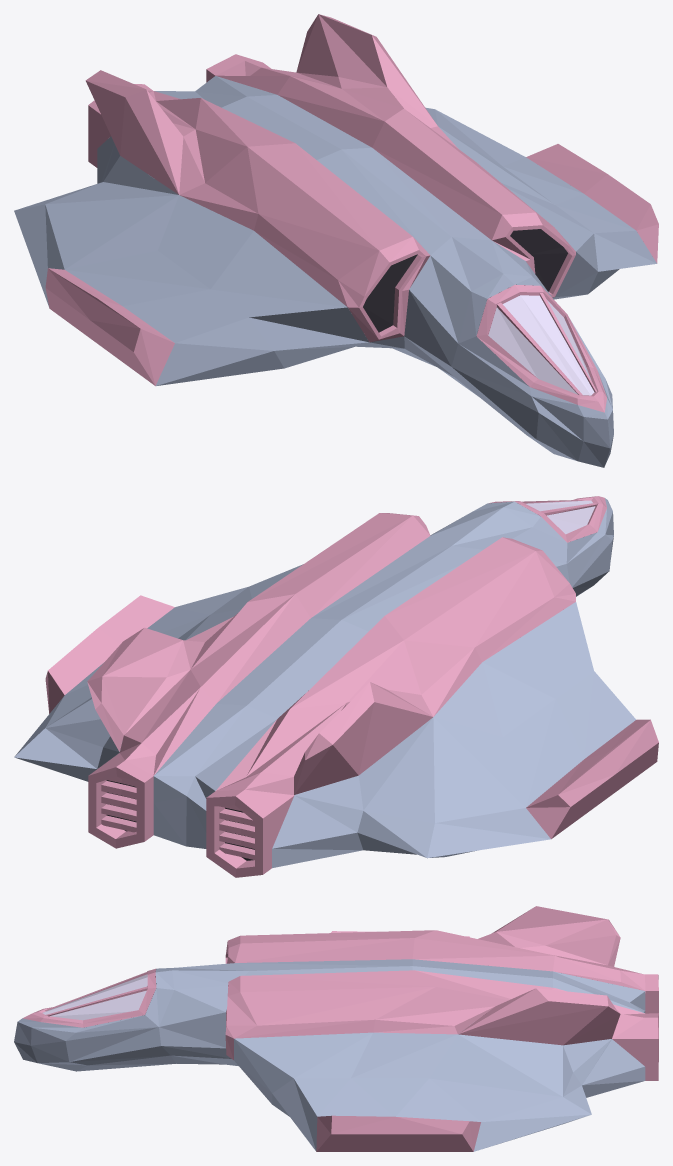
File: spaceship-vulcan.glb
3 renders of one model, top to bottom at view 1: azimuth 30°, elevation 25°; view 2: azimuth 150°, elevation 25°; view 3: azimuth 270°, elevation 25°, orthographic. The views are drawn at different scales.
Parts seen in each view (by area): view 1: spaceship-vulcan_0_0.05, outer, glass, inner; view 2: outer, spaceship-vulcan_0_0.05, glass; view 3: spaceship-vulcan_0_0.05, outer, glass.
Boxes of the visible parts, box(x1,y1,x2,y2) form: spaceship-vulcan_0_0.05: box(14, 76, 656, 467); outer: box(45, 14, 658, 412); glass: box(488, 295, 594, 395); inner: box(363, 229, 567, 332); outer: box(45, 496, 658, 877); spaceship-vulcan_0_0.05: box(14, 498, 635, 868); glass: box(526, 500, 595, 534); spaceship-vulcan_0_0.05: box(14, 959, 645, 1151); outer: box(22, 906, 658, 1151); glass: box(42, 974, 147, 1020).
Size of what is drawn, in the model's own units: 18.06 by 5.5 by 25.9.
